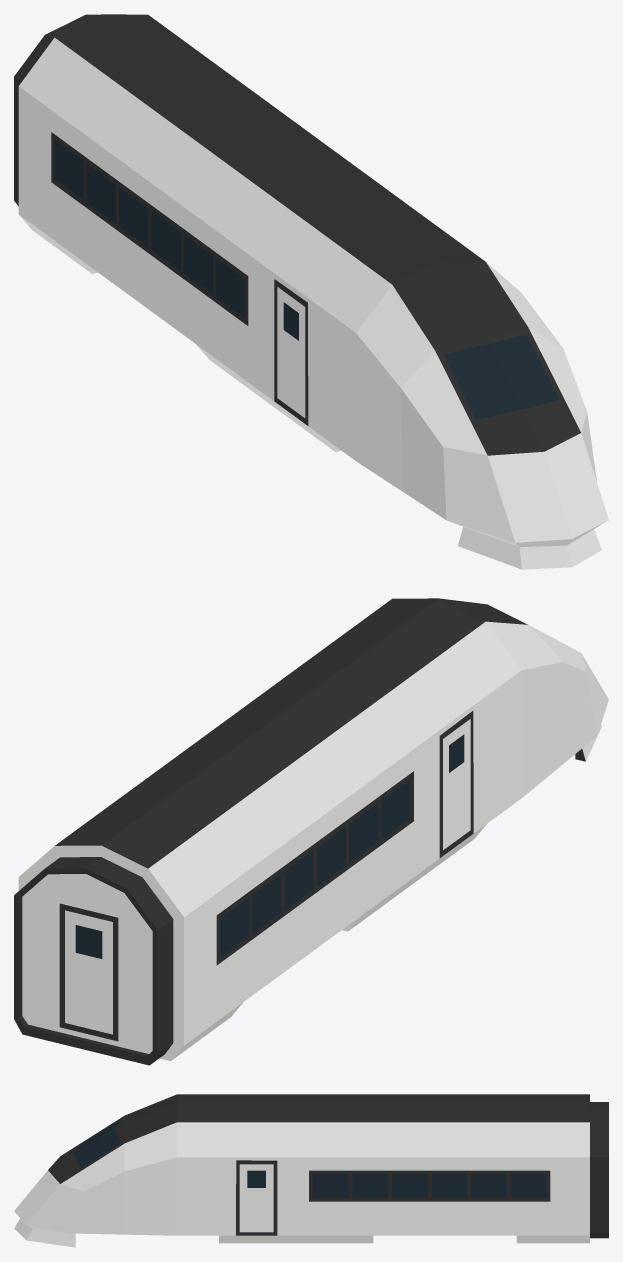
Rendered from train-speed-base.glb.
The picture shows the model from 3 angles, top to bottom: view 1: azimuth 30°, elevation 25°; view 2: azimuth 150°, elevation 25°; view 3: azimuth 270°, elevation 25°; orthographic projection. The views are drawn at different scales.
Parts seen in each view (by area): view 1: train-speed-base; view 2: train-speed-base; view 3: train-speed-base.
Part boxes in pixels (x1,y1,x2,y2): train-speed-base: (14,14,608,569); train-speed-base: (14,598,608,1065); train-speed-base: (14,1094,608,1247).
Size of the model in its own units: 3.1 by 3.73 by 15.79.
Materials: 1 (1 with a texture image).
